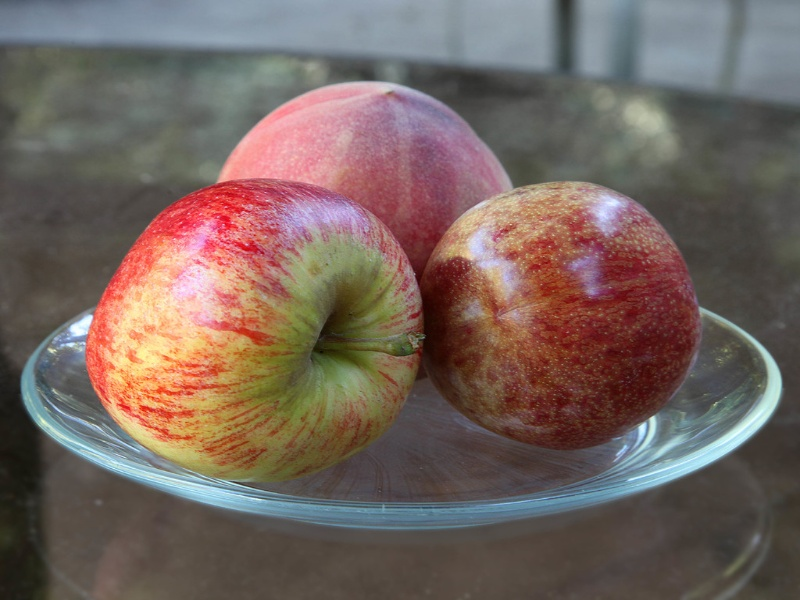apple: (80, 172, 428, 491)
